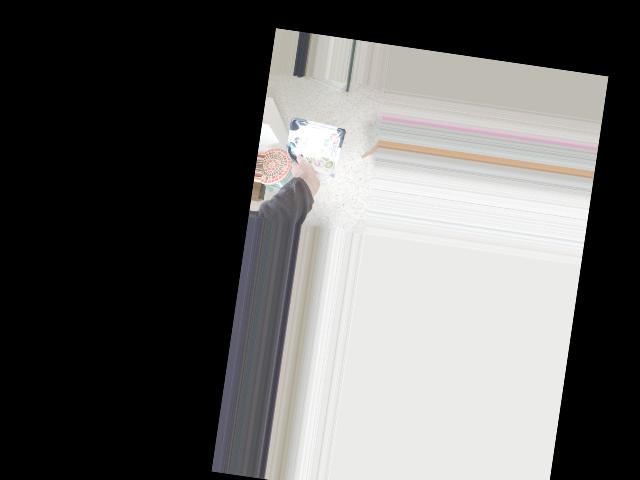cheese: (279, 127, 343, 196)
